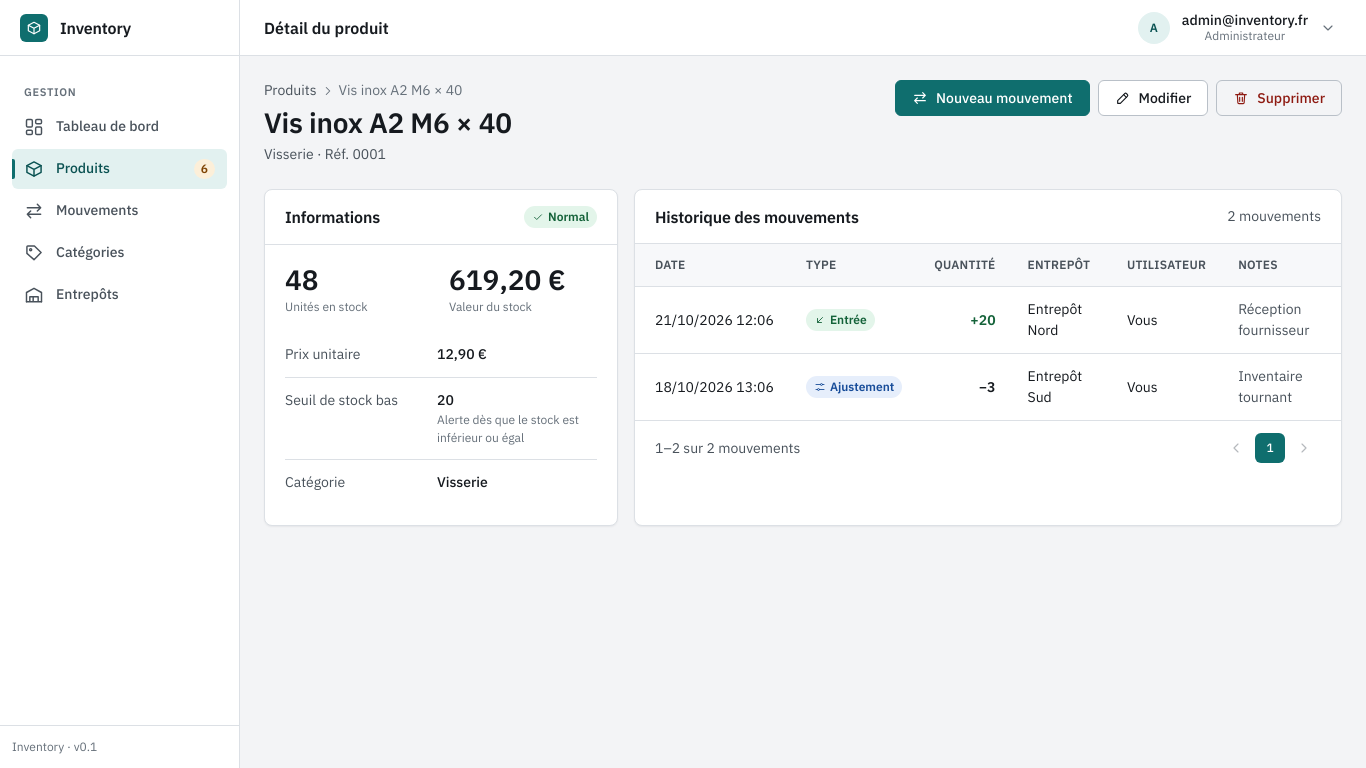
Test: ProductDetailPage › actions › gives an Admin the movement, edit and delete actions
The width and height of the screenshot is (1366, 768).
expect the heading "Vis inox A2 M6 × 40" is shown: met, box top-left (264, 105), bottom-right (512, 140)
Click the button "Nouveau mouvement". click: click(992, 98)
box: top-left (895, 80), bottom-right (1090, 116)
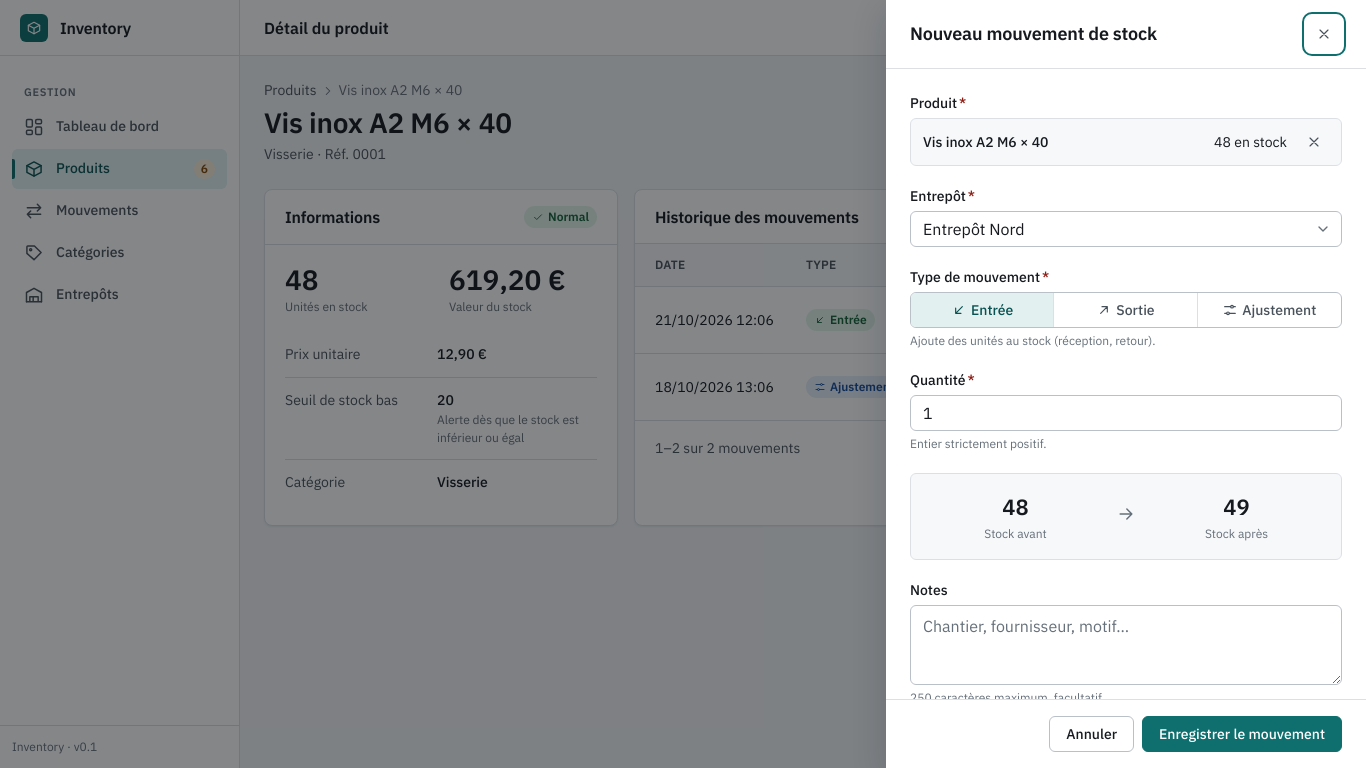
expect the text "Vis inox A2 M6 × 40" is shown: met, box top-left (923, 132), bottom-right (1048, 150)
Click the button named "Fermer le panneau". click: click(1324, 34)
box: top-left (1306, 16), bottom-right (1342, 52)
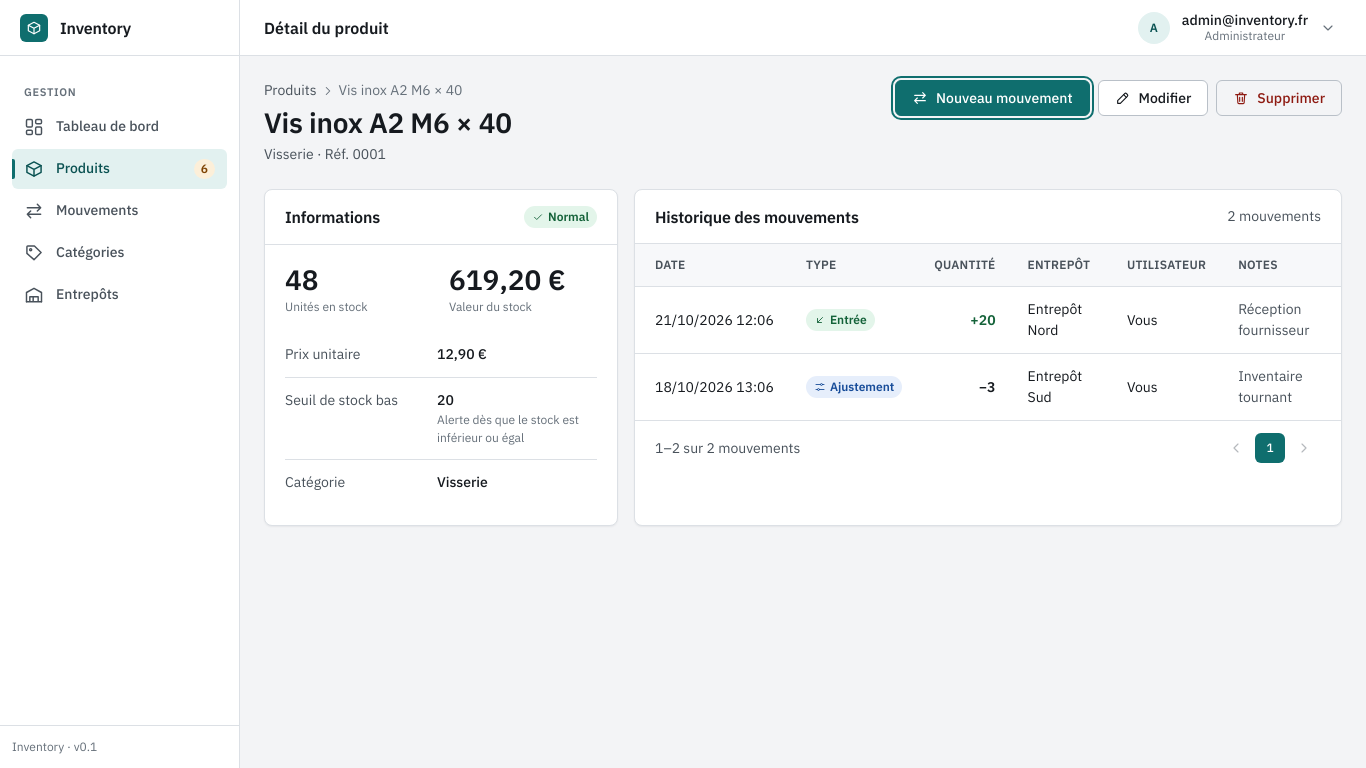
expect the dialog is gone: met
Click the button "Supprimer". click: click(1279, 98)
box: top-left (1216, 80), bottom-right (1342, 116)
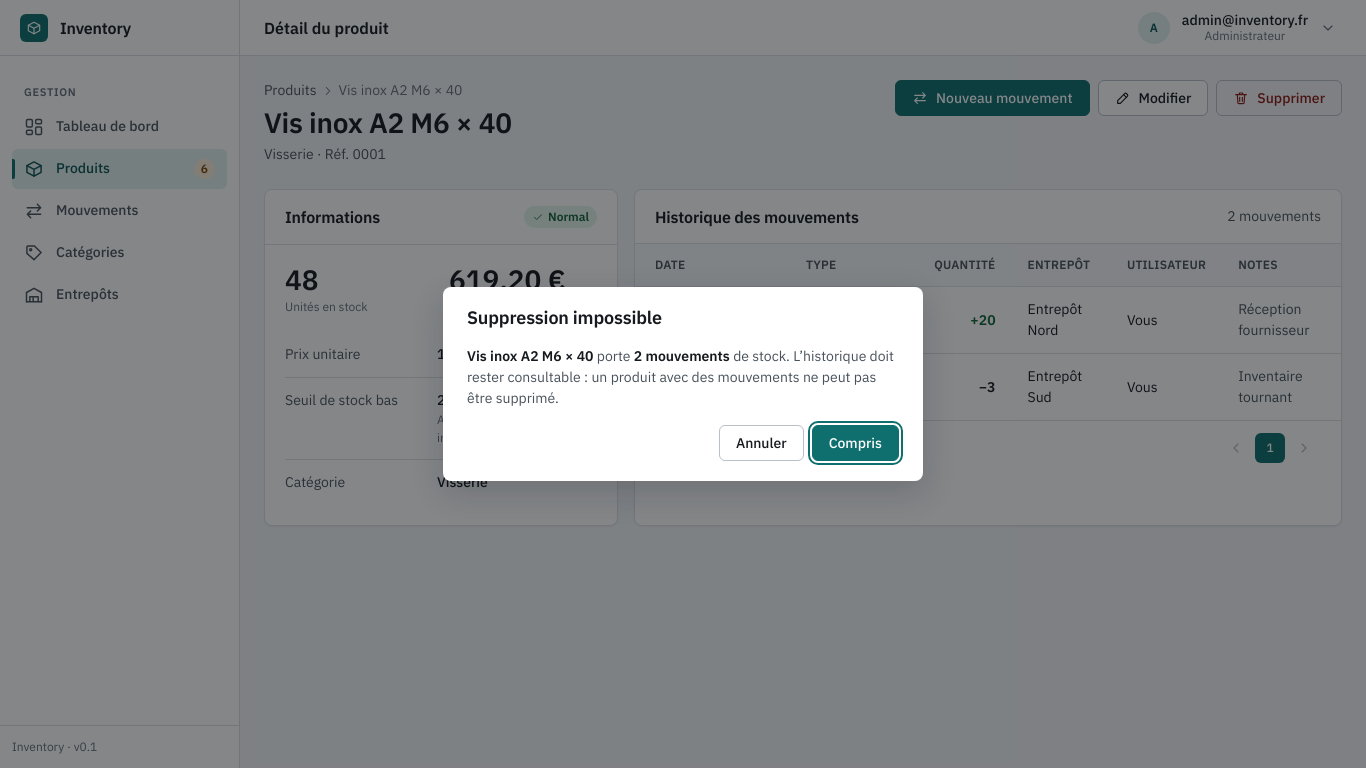
expect the dialog "Suppression impossible" is shown: met, box top-left (443, 287), bottom-right (923, 481)
